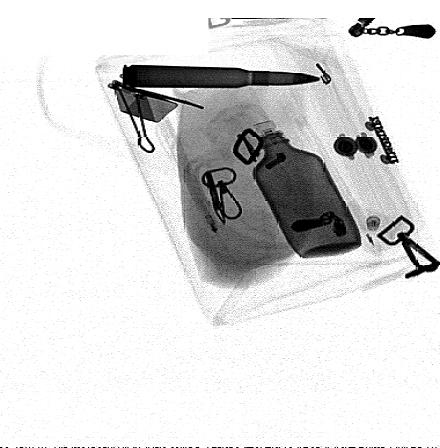Bullet: (120, 64, 325, 89)
